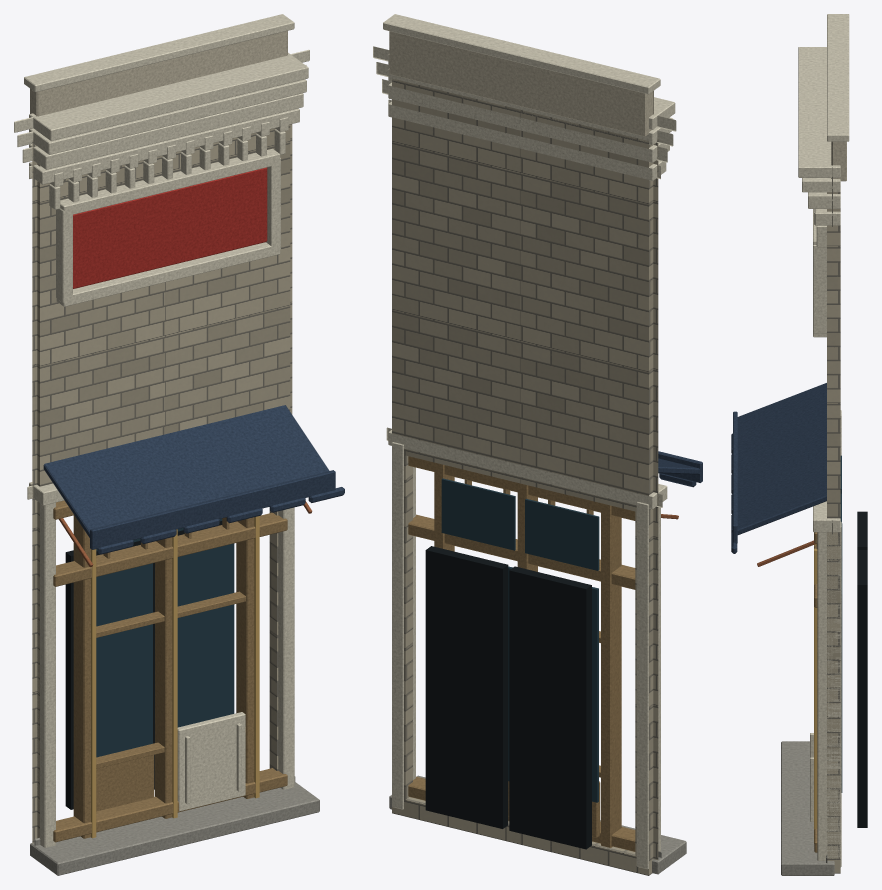
The model's file is BUSS2_lod1.glb.
3 renders of one model, left to right at view 1: azimuth 30°, elevation 25°; view 2: azimuth 150°, elevation 25°; view 3: azimuth 270°, elevation 25°, orthographic. The views are drawn at different scales.
Parts seen in each view (by area): view 1: BUSS2_FRONT_LOD1; view 2: BUSS2_FRONT_LOD1; view 3: BUSS2_FRONT_LOD1.
Part boxes in pixels (bbox=[...]): BUSS2_FRONT_LOD1: bbox=[14, 14, 344, 875]; BUSS2_FRONT_LOD1: bbox=[373, 14, 702, 875]; BUSS2_FRONT_LOD1: bbox=[731, 14, 867, 875].
Bounding box in the file's own units: 3.78 × 9.44 × 1.57.
Materials: 12 (9 with a texture image).
